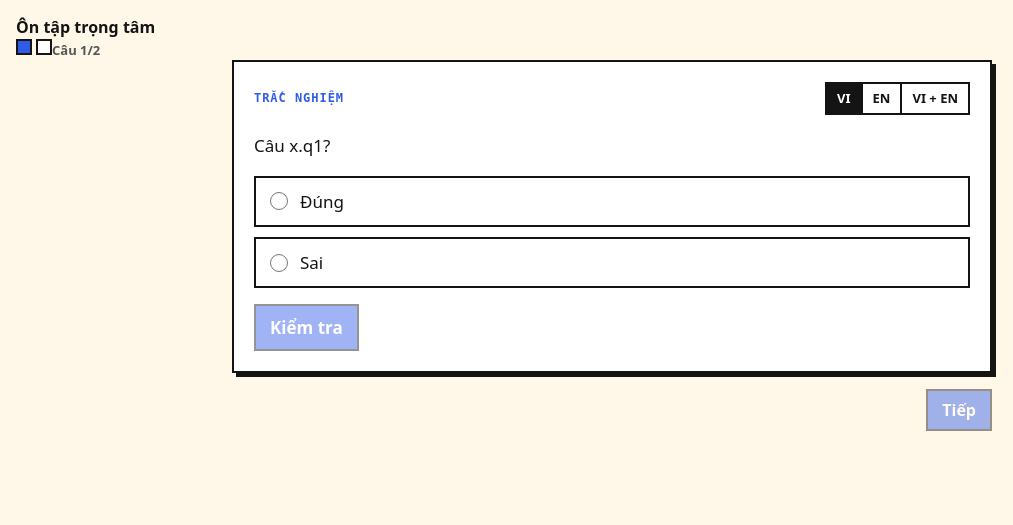
it: RemedialScreen › finishing the set closes it
Expected: the heading "Ôn tập trọng tâm" is shown, [16, 16, 155, 38]
Click the radio button labelled "Đúng": (279, 201) [270, 192, 288, 210]
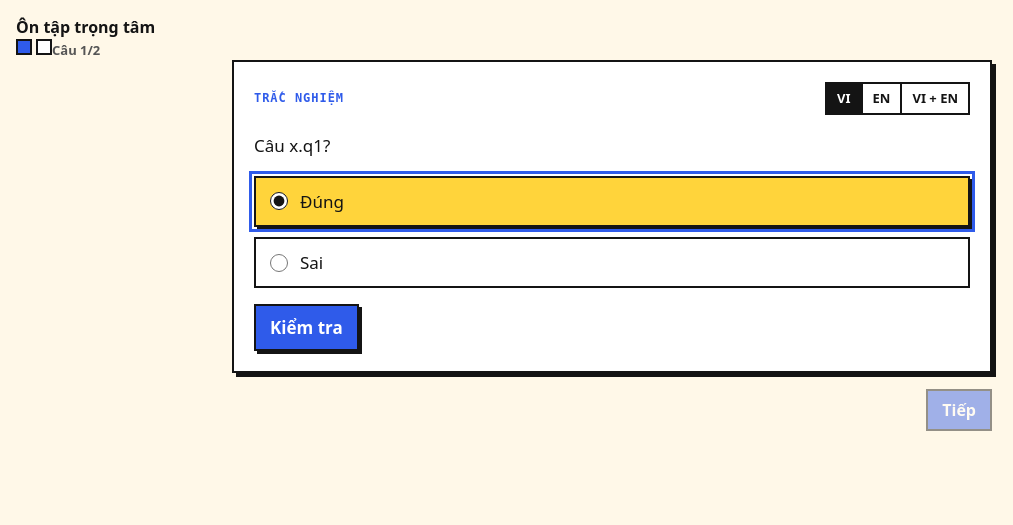
Click the button "Kiểm tra": (306, 328) [254, 304, 359, 351]
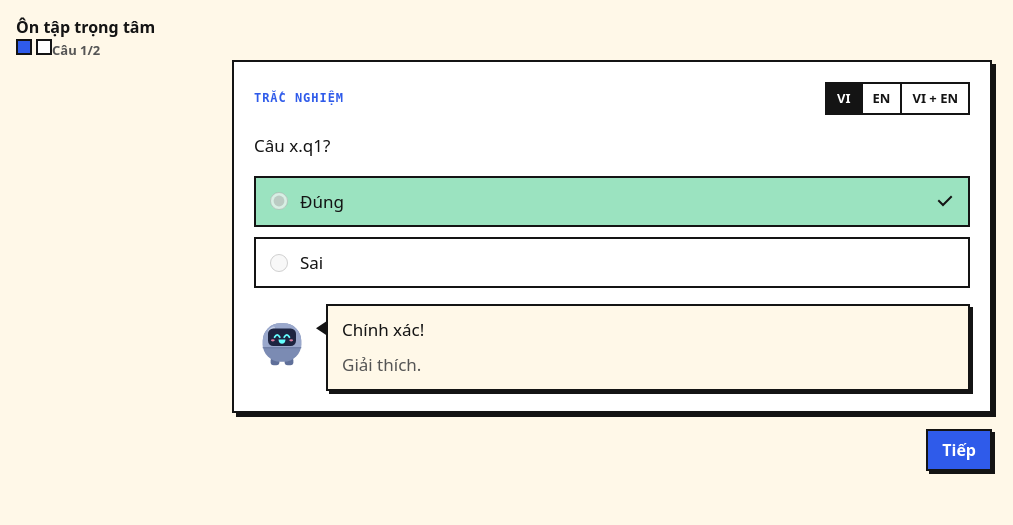
Click the button "Tiếp": (959, 450) [926, 428, 992, 470]
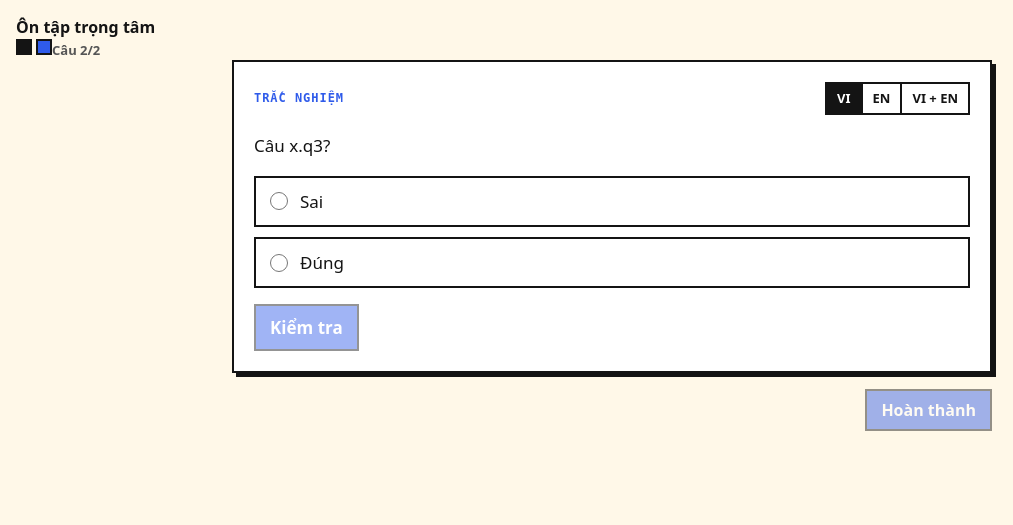
Click the radio button labelled "Đúng": (279, 263) [270, 254, 288, 272]
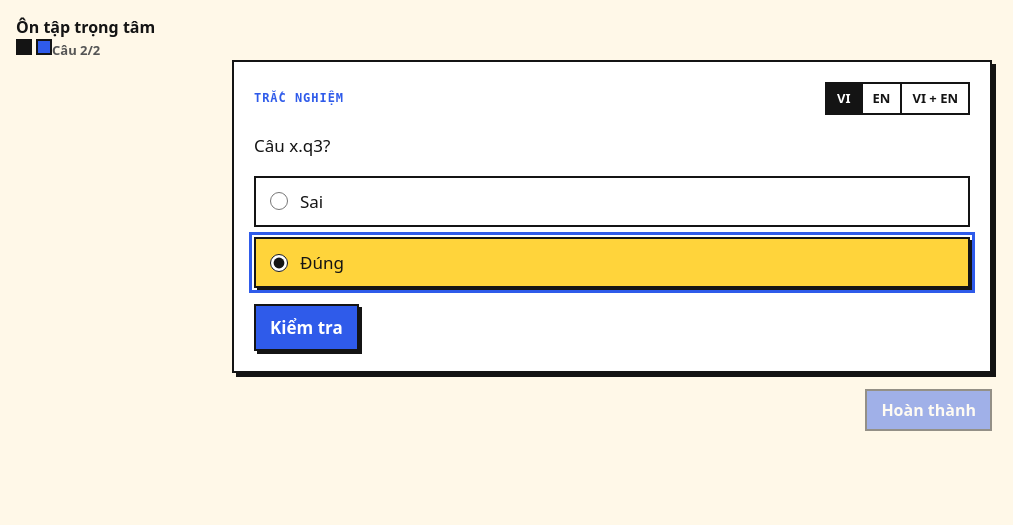
Click the button "Kiểm tra": (306, 328) [254, 304, 359, 351]
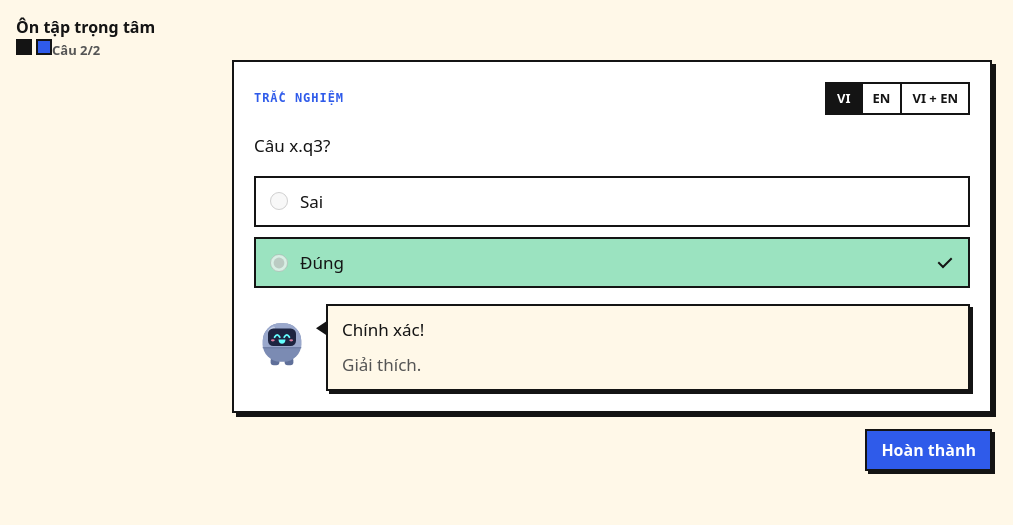
Click the button "Hoàn thành": (929, 450) [865, 428, 992, 470]
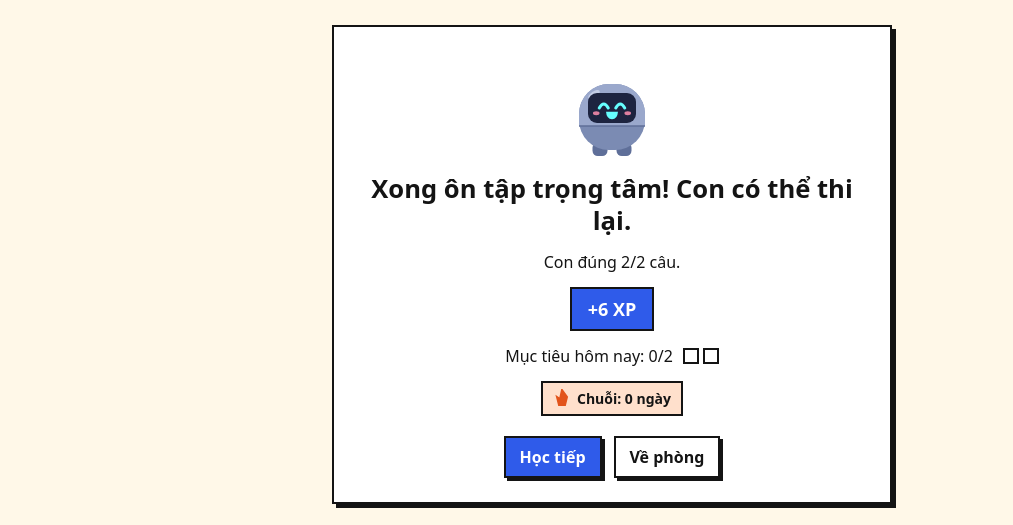
Expected: the heading "Xong ôn tập trọng tâm! Con có thể thi lại." is shown, [354, 173, 870, 237]
